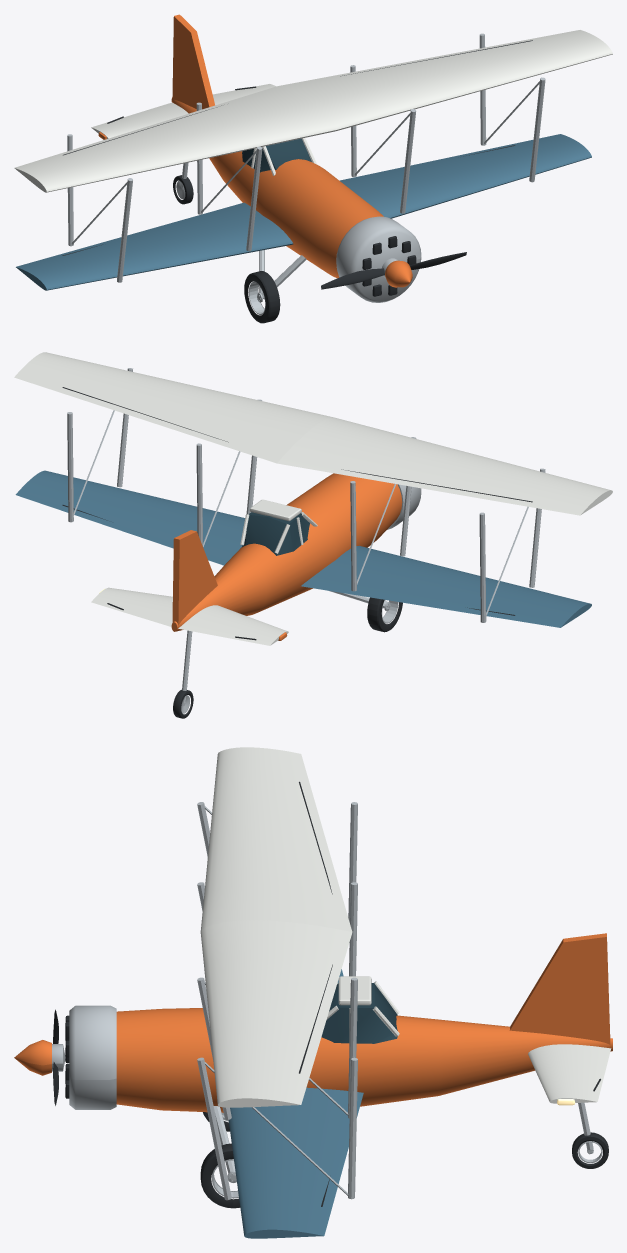
The model's file is transport-collection-hd-radial-biplane-f79c7d58__18700.glb.
3 renders of one model, top to bottom at view 1: azimuth 30°, elevation 25°; view 2: azimuth 150°, elevation 25°; view 3: azimuth 270°, elevation 25°, orthographic. The views are drawn at different scales.
Visible parts, largest first — view 1: radial-biplane, main-wheel--1/rubber, propeller-0/rubber; view 2: radial-biplane, main-wheel--1/rubber; view 3: radial-biplane, main-wheel-1/rubber, tail-wheel/rubber.
Part boxes in pixels (bbox=[...]): radial-biplane: bbox=[14, 14, 612, 302]; main-wheel--1/rubber: bbox=[244, 271, 280, 323]; propeller-0/rubber: bbox=[321, 252, 466, 289]; radial-biplane: bbox=[14, 352, 612, 703]; main-wheel--1/rubber: bbox=[367, 597, 402, 632]; radial-biplane: bbox=[14, 747, 612, 1238]; main-wheel-1/rubber: bbox=[200, 1143, 240, 1208]; tail-wheel/rubber: bbox=[572, 1132, 608, 1168].
Bounding box in the file's own units: 8.1 × 2.66 × 5.84.
